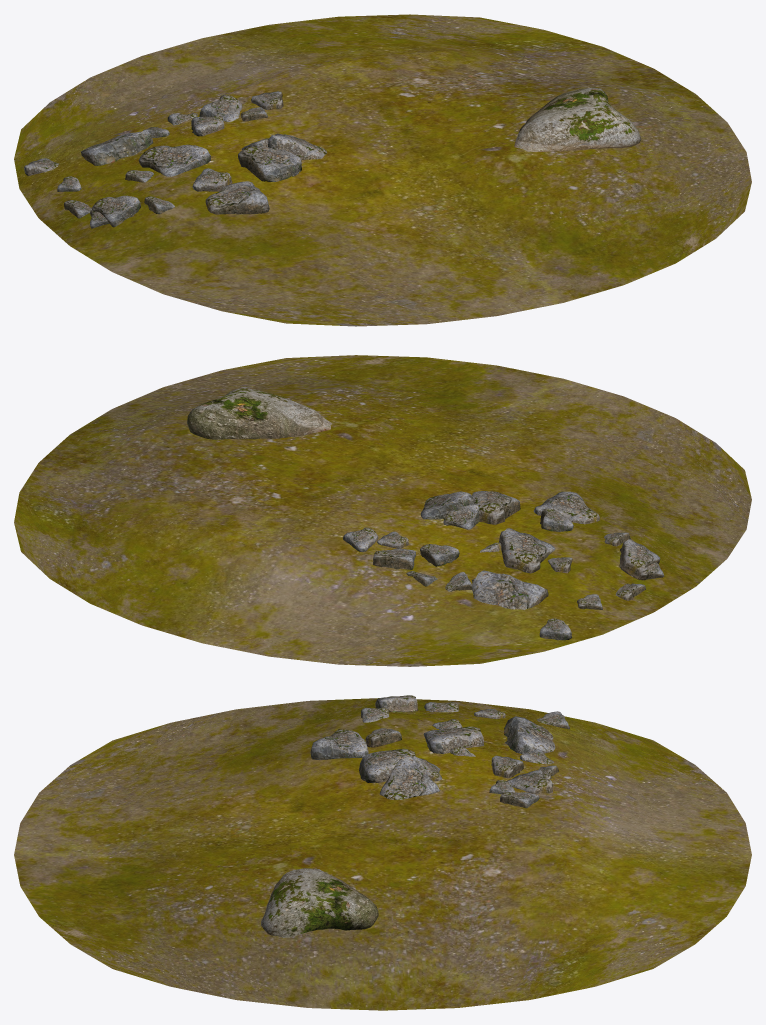
Rendered from Hoikansaari.gltf.
3 views of the same model, one above another, from view 1: azimuth 30°, elevation 25°; view 2: azimuth 150°, elevation 25°; view 3: azimuth 270°, elevation 25° (orthographic). The views are drawn at different scales.
Visible parts, largest first — view 1: Plane, Rock-21, Rock-14.011, Rock-14.015, Rock-14.012, Rock-14, Rock-14.018, Rock-14.010, Rock-14.006, Rock-14.013, Rock-14.005; view 2: Plane, Rock-21, Rock-14, Rock-14.015, Rock-14.011, Rock-14.012, Rock-14.018, Rock-14.010, Rock-14.006, Rock-14.009, Rock-14.005, Rock-14.013 (+2 smaller); view 3: Plane, Rock-21, Rock-14.010, Rock-14, Rock-14.012, Rock-14.015, Rock-14.011, Rock-14.006, Rock-14.018, Rock-14.005, Rock-14.013.
Part boxes in pixels (box(x1,y1,x2,y2)): Plane: box(14, 14, 751, 326); Rock-21: box(514, 87, 641, 151); Rock-14.011: box(238, 146, 301, 181); Rock-14.015: box(138, 144, 211, 176); Rock-14.012: box(205, 181, 269, 214); Rock-14: box(81, 130, 153, 165); Rock-14.018: box(91, 195, 140, 227); Rock-14.010: box(268, 133, 327, 160); Rock-14.006: box(199, 95, 242, 121); Rock-14.013: box(192, 168, 232, 191); Rock-14.005: box(191, 115, 224, 136); Plane: box(14, 355, 751, 666); Rock-21: box(187, 388, 331, 439); Rock-14: box(472, 570, 548, 609); Rock-14.015: box(499, 528, 555, 573); Rock-14.011: box(472, 491, 520, 524); Rock-14.012: box(533, 491, 599, 524); Rock-14.018: box(619, 539, 660, 579); Rock-14.010: box(420, 491, 474, 519); Rock-14.006: box(373, 548, 415, 569); Rock-14.009: box(443, 504, 479, 529); Rock-14.005: box(420, 544, 459, 566); Rock-14.013: box(540, 508, 573, 531); Plane: box(14, 698, 751, 1010); Rock-21: box(261, 868, 378, 937); Rock-14.010: box(379, 756, 440, 799); Rock-14: box(504, 716, 555, 753); Rock-14.012: box(310, 729, 368, 759); Rock-14.015: box(423, 726, 484, 753); Rock-14.011: box(359, 748, 415, 782); Rock-14.006: box(506, 770, 552, 793); Rock-14.018: box(375, 695, 418, 712); Rock-14.005: box(491, 755, 523, 778); Rock-14.013: box(365, 728, 401, 747).
Bounding box in the file's own units: 1.86 × 0.2092 × 1.86.
Materials: 3 (3 with a texture image).
